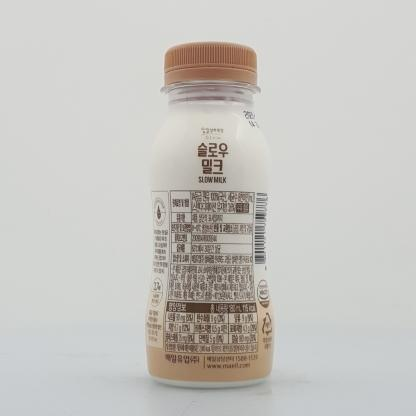----------180ML: (145, 41, 275, 389)
